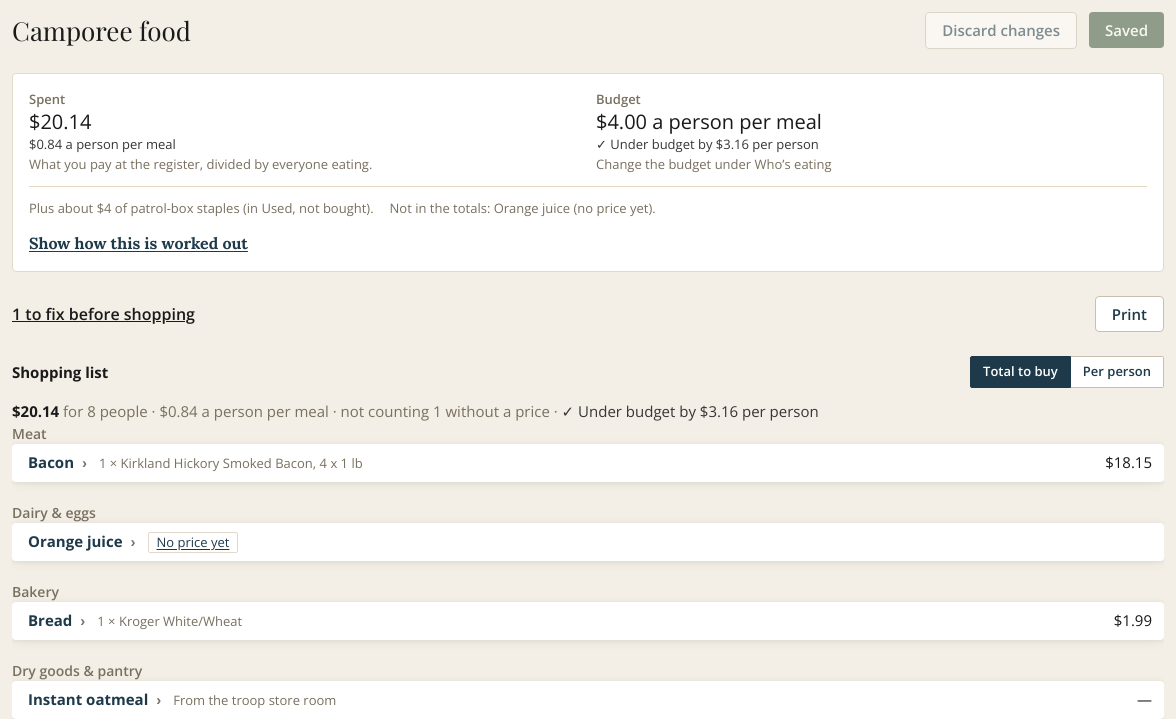
Test: ShoppingTab › page › PerPersonSwitch_DividesEachRowByThePeople
Check: the text "$18.15" is shown, box [1105, 452, 1152, 472]
Click the button "Per person" at x=1117, y=372, box [1071, 356, 1164, 388]
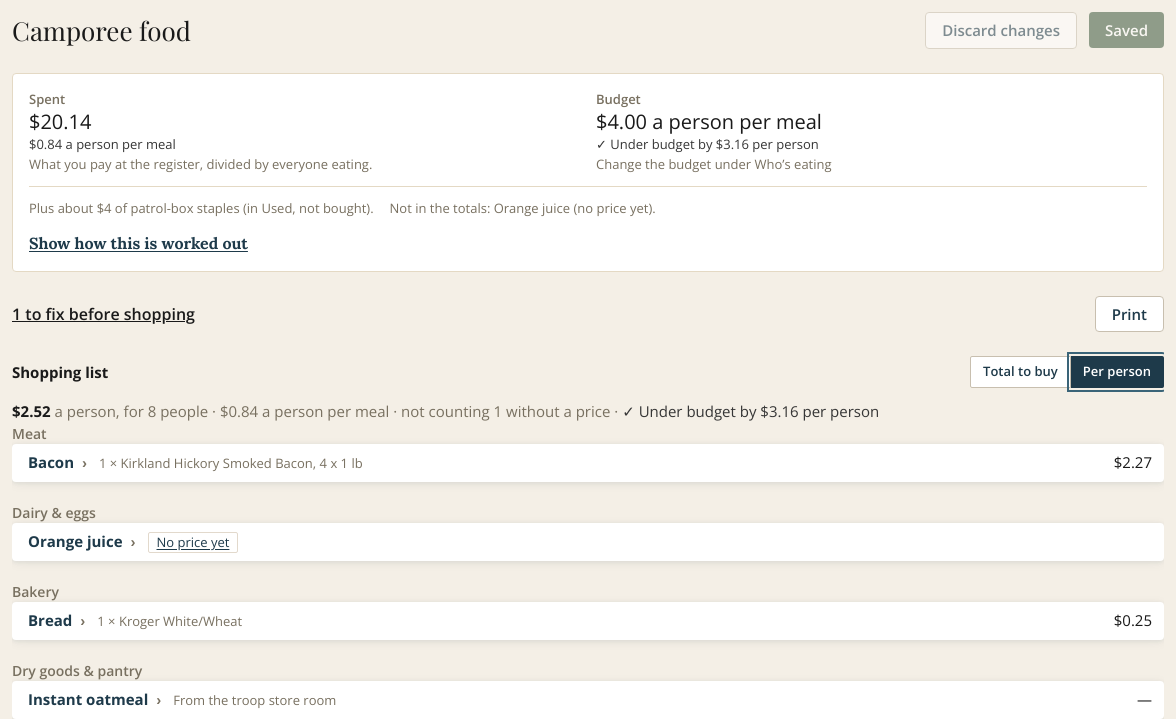
Check: the text "$2.27" is shown, box [1114, 452, 1152, 472]
